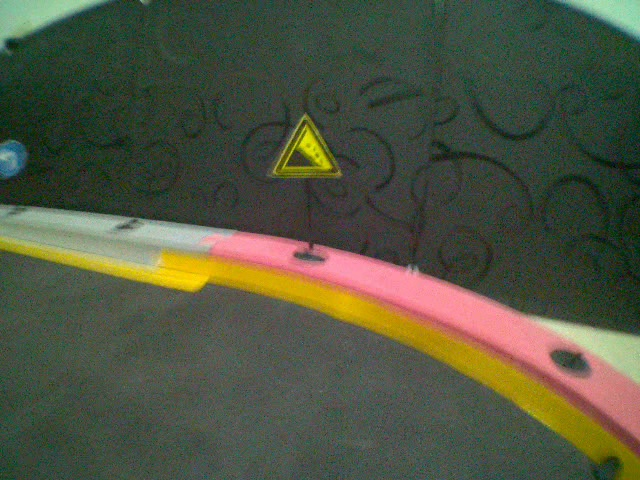fast: (268, 113, 344, 180)
